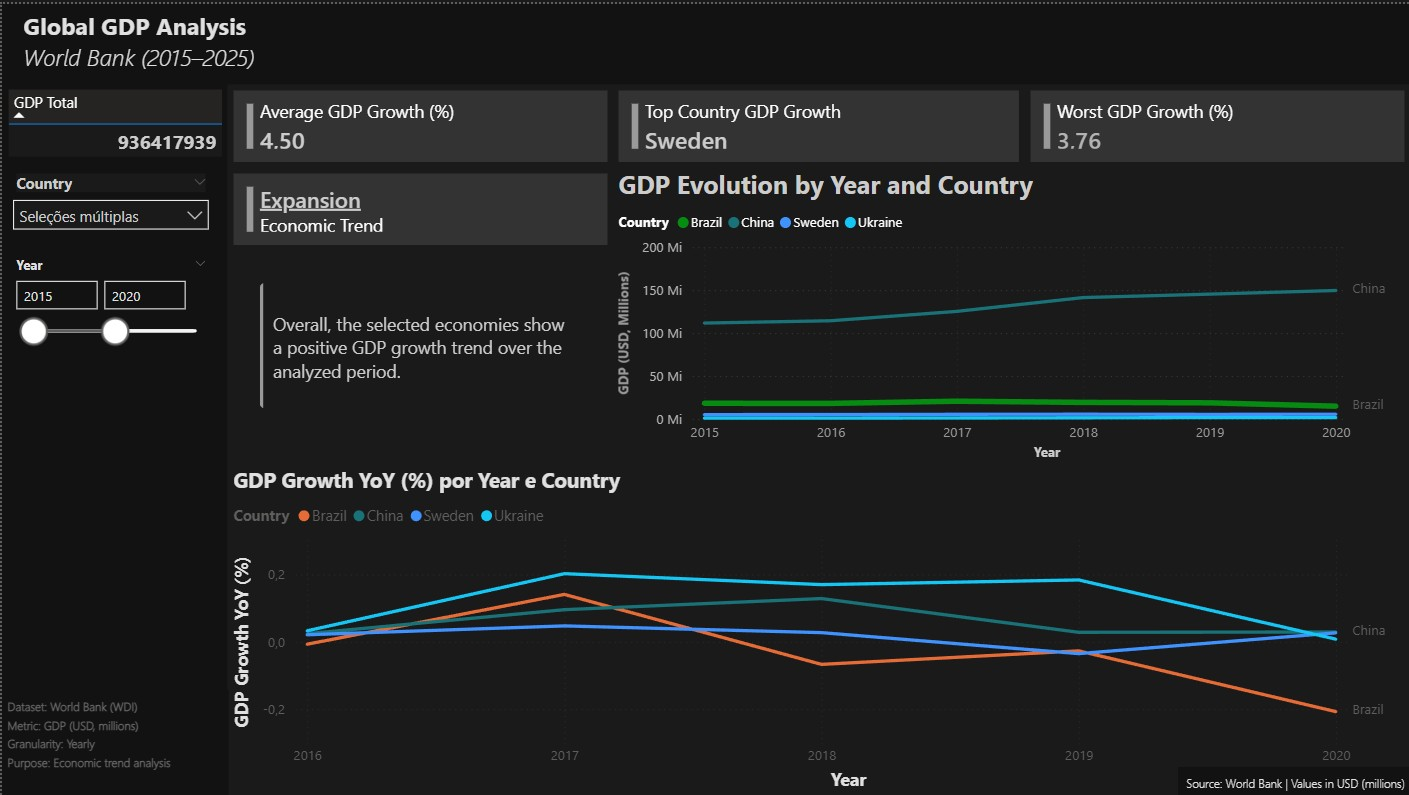

What the dashboard file says about the page in this screenshot:
{"tool":"powerbi","page":{"name":"Página 1","canvas":[1280,720],"ordinal":0},"visuals":[{"type":"tableEx","title":"Total GDP","fields":{"Values":["gdp_powerbi.GDP Total"]},"box":[0,73,205,647],"z":0},{"type":"lineChart","title":"GDP Evolution by Year and Country","fields":{"Category":["gdp_powerbi.Year"],"Series":["gdp_powerbi.Country"],"Y":["gdp_powerbi.GDP Total"]},"box":[555.6,148.9,724.4,271.1],"z":1000},{"type":"slicer","fields":{"Values":["gdp_powerbi.Country"]},"box":[0,148.9,197.8,106.7],"z":2000},{"type":"lineChart","fields":{"Category":["gdp_powerbi.Year"],"Y":["gdp_powerbi.GDP Growth YoY (%)"],"Series":["gdp_powerbi.Country"]},"box":[205.6,420,1074.4,300],"z":3000},{"type":"textbox","box":[0,0,1280,73],"z":4000},{"type":"cardVisual","fields":{"Data":["gdp_powerbi.Top Country GDP Growth"]},"box":[555.6,73.3,374.4,75.6],"z":5000},{"type":"cardVisual","fields":{"Data":["gdp_powerbi.Average GDP Growth (%)","gdp_powerbi.Average GDP Growth (%)","Sum(gdp_powerbi.Year)"]},"box":[205.6,73.3,350,75.6],"z":6000},{"type":"cardVisual","fields":{"Data":["gdp_powerbi.Worst GDP Growth (%)"]},"box":[930,73.3,350,75.6],"z":7000},{"type":"slicer","fields":{"Values":["gdp_powerbi.Year"]},"box":[0,223.3,197.8,106.7],"z":8000},{"type":"textbox","box":[1068.9,693.3,211.1,26.7],"z":9000},{"type":"cardVisual","fields":{"Data":["gdp_powerbi.Economic Trend"]},"box":[205.6,148.9,350,75],"z":9001},{"type":"cardVisual","fields":{"Data":["gdp_powerbi.Executive Insight"]},"box":[205.6,224.4,350,172.2],"z":9002},{"type":"textbox","box":[0,623.3,205.6,96.7],"z":9003}]}

Visuals, with their boxes in screenshot pixels (x1, y1, x2, y2), scaled from the page's 1280x720 canvas onto the 1409x795 screenshot:
"Total GDP" tableEx: left=0, top=81, right=226, bottom=794
"GDP Evolution by Year and Country" lineChart: left=612, top=164, right=1408, bottom=464
slicer - gdp_powerbi.Country: left=0, top=164, right=218, bottom=282
lineChart - gdp_powerbi.Year x gdp_powerbi.GDP Growth YoY (%): left=226, top=464, right=1408, bottom=794
textbox: left=0, top=0, right=1408, bottom=81
cardVisual - gdp_powerbi.Top Country GDP Growth: left=612, top=81, right=1024, bottom=164
cardVisual - gdp_powerbi.Average GDP Growth (%) x gdp_powerbi.Average GDP Growth (%): left=226, top=81, right=612, bottom=164
cardVisual - gdp_powerbi.Worst GDP Growth (%): left=1024, top=81, right=1408, bottom=164
slicer - gdp_powerbi.Year: left=0, top=247, right=218, bottom=364
textbox: left=1177, top=766, right=1408, bottom=794
cardVisual - gdp_powerbi.Economic Trend: left=226, top=164, right=612, bottom=247
cardVisual - gdp_powerbi.Executive Insight: left=226, top=248, right=612, bottom=438
textbox: left=0, top=688, right=226, bottom=794
